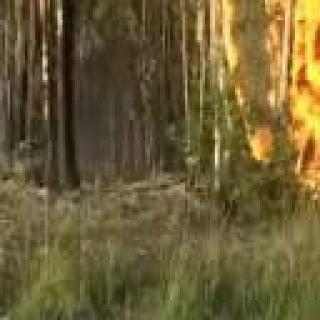fire: (264, 0, 320, 109), (197, 0, 251, 90), (279, 128, 320, 234)
